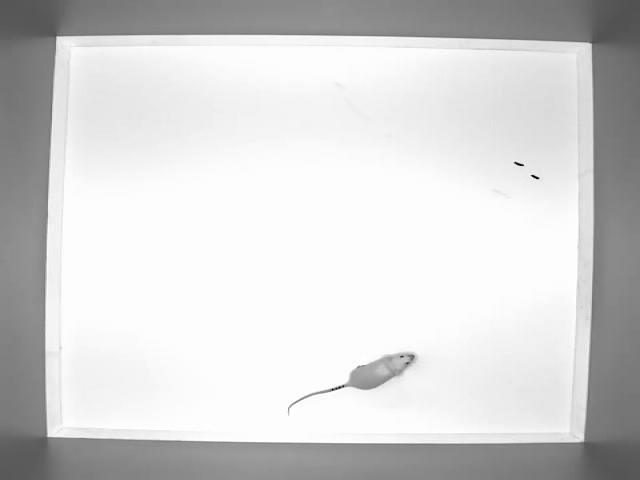Tikus: (288, 352, 416, 414)
